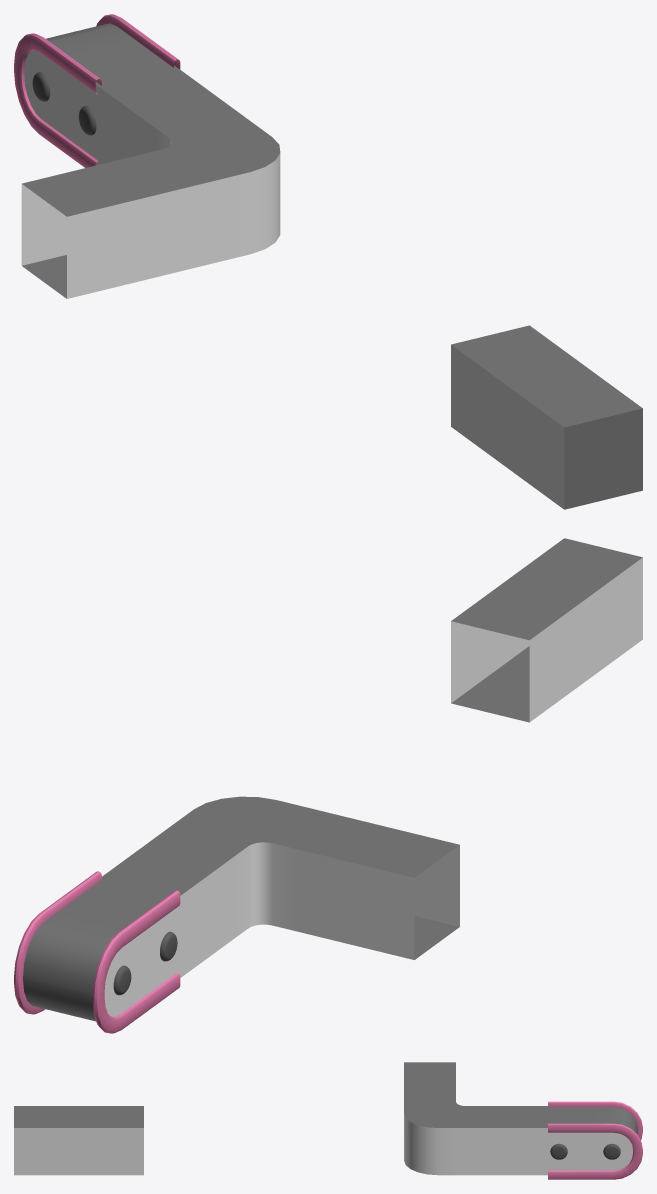
Rendered from donenParca2.fbx.
3 views of the same model, one above another, from view 1: azimuth 30°, elevation 25°; view 2: azimuth 150°, elevation 25°; view 3: azimuth 270°, elevation 25° (orthographic). The views are drawn at different scales.
Visible parts, largest first — view 1: araparcaUzun, araparcakısa, donenParca, kısaBaslangic, uzunBaslangic; view 2: araparcaUzun, kısaBaslangic, araparcakısa, donenParca, uzunBaslangic; view 3: araparcaUzun, kısaBaslangic, donenParca, uzunBaslangic, araparcakısa.
Boxes of the visible parts, x1=… form: araparcaUzun: x1=451, y1=325, x2=642, y2=509; araparcakısa: x1=21, y1=155, x2=184, y2=298; donenParca: x1=140, y1=109, x2=280, y2=270; kısaBaslangic: x1=14, y1=14, x2=180, y2=167; uzunBaslangic: x1=24, y1=50, x2=234, y2=164; araparcaUzun: x1=451, y1=538, x2=642, y2=722; kısaBaslangic: x1=14, y1=871, x2=180, y2=1033; araparcakısa: x1=296, y1=816, x2=459, y2=959; donenParca: x1=156, y1=796, x2=341, y2=937; uzunBaslangic: x1=102, y1=837, x2=234, y2=1016; araparcaUzun: x1=14, y1=1106, x2=143, y2=1175; kısaBaslangic: x1=548, y1=1101, x2=642, y2=1179; donenParca: x1=404, y1=1095, x2=481, y2=1175; uzunBaslangic: x1=482, y1=1106, x2=606, y2=1175; araparcakısa: x1=404, y1=1062, x2=455, y2=1094.
Bounding box in the file's own units: 611 × 238 × 2419.
